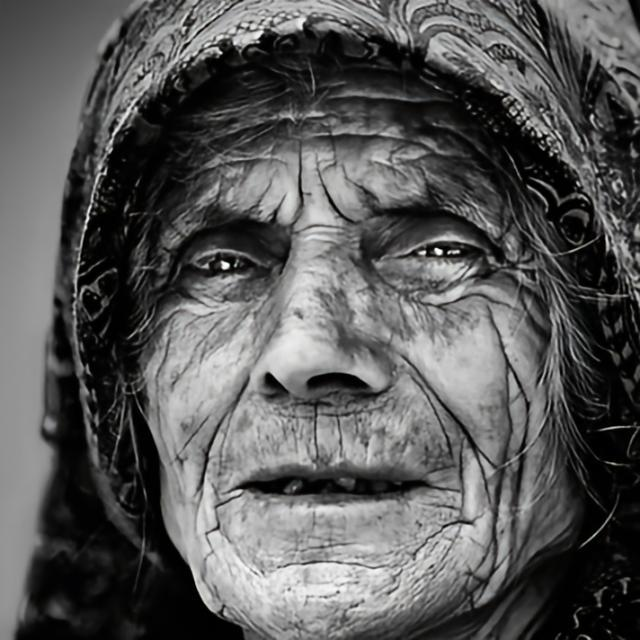sad: (141, 92, 551, 638)
